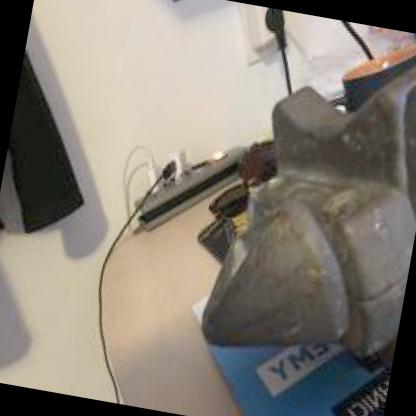Twistlock: (172, 34, 415, 397)
